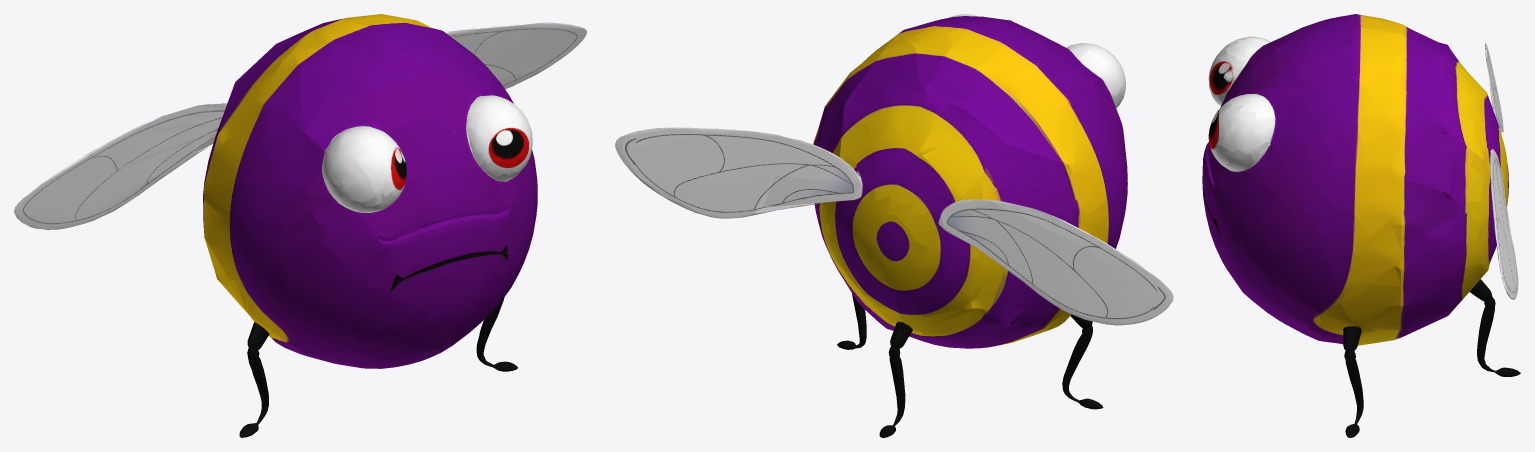
The model's file is buzzer.glb.
The picture shows the model from 3 angles, left to right: view 1: azimuth 30°, elevation 25°; view 2: azimuth 150°, elevation 25°; view 3: azimuth 270°, elevation 25°; orthographic projection. The views are drawn at different scales.
Bounding box in the file's own units: 1.9 × 1.17 × 0.9688.
Materials: 1 (1 with a texture image).
